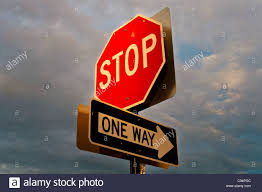Stop: (88, 21, 184, 120)
